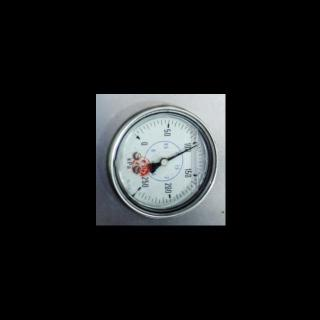gauge: (95, 97, 225, 225), (132, 130, 146, 145), (132, 181, 146, 195), (160, 156, 168, 166), (193, 142, 199, 148)
